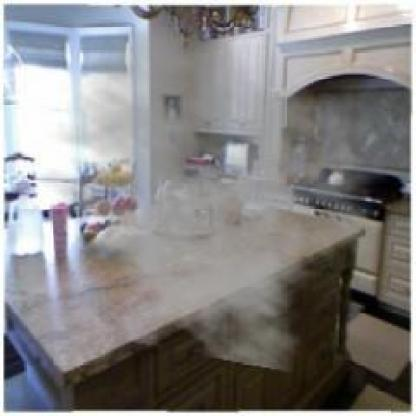Smoke: (21, 21, 390, 374)
